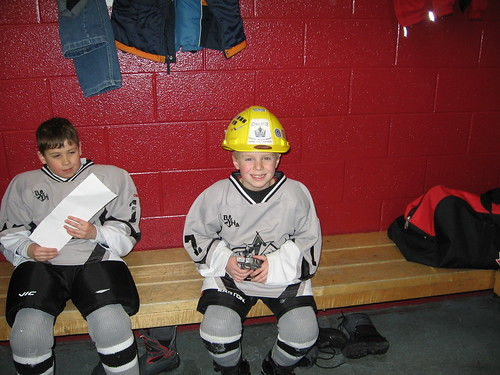person hardhat: (181, 104, 319, 375)
